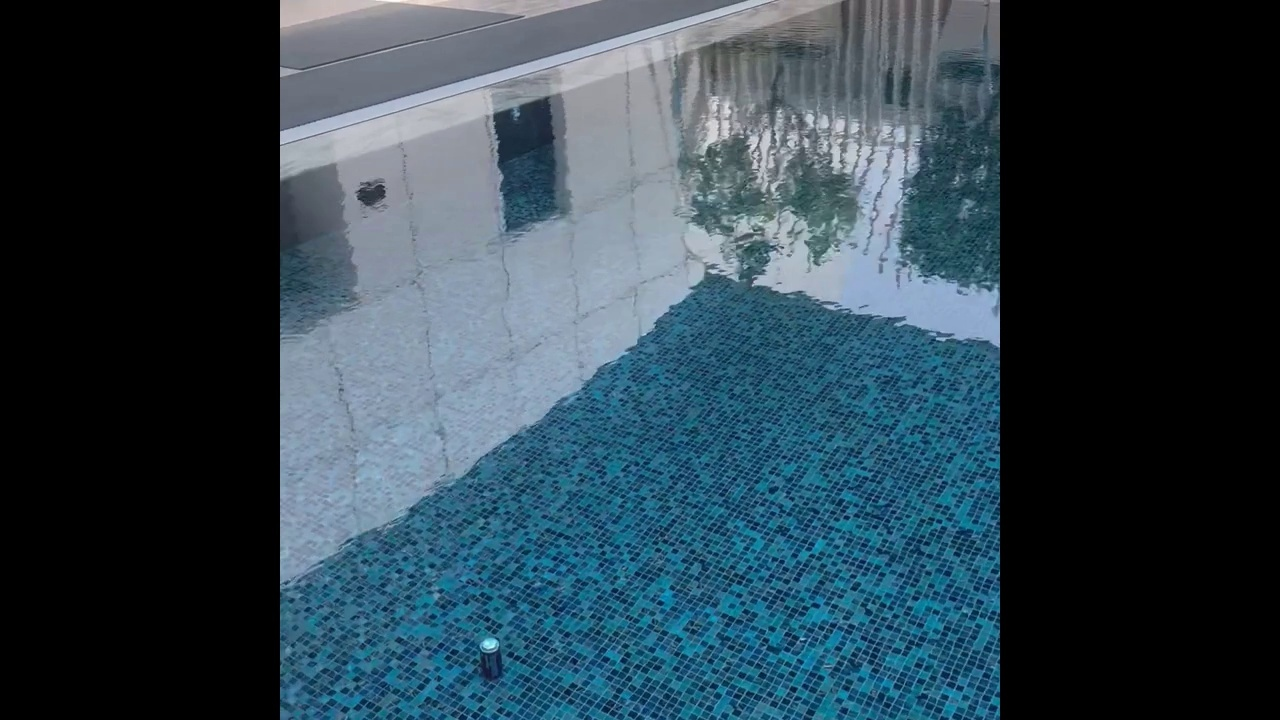debris: (474, 635, 507, 679)
